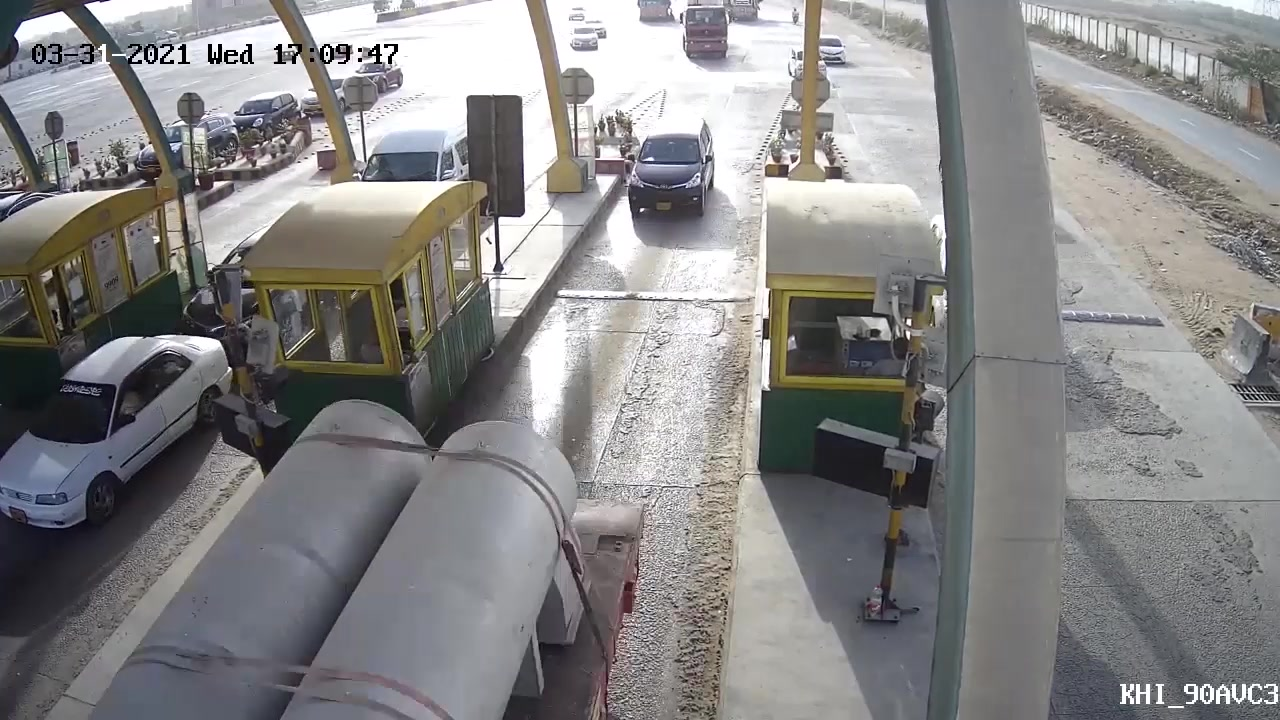F1: (605, 113, 748, 233)
